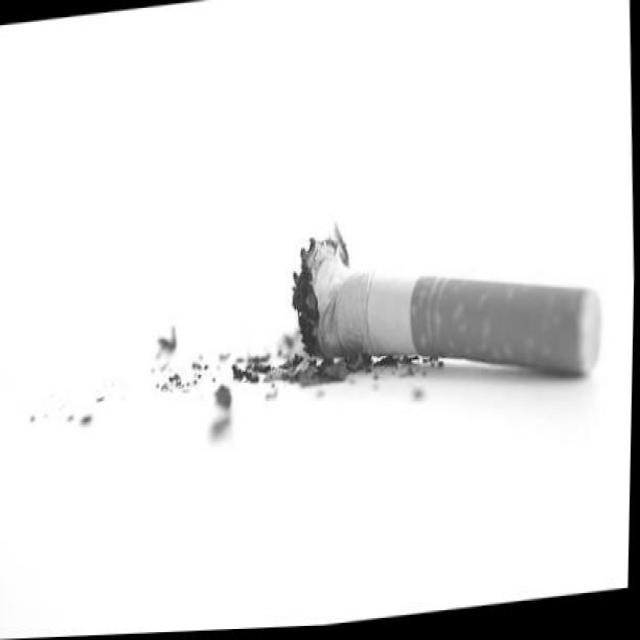cigarette: (288, 200, 610, 418)
